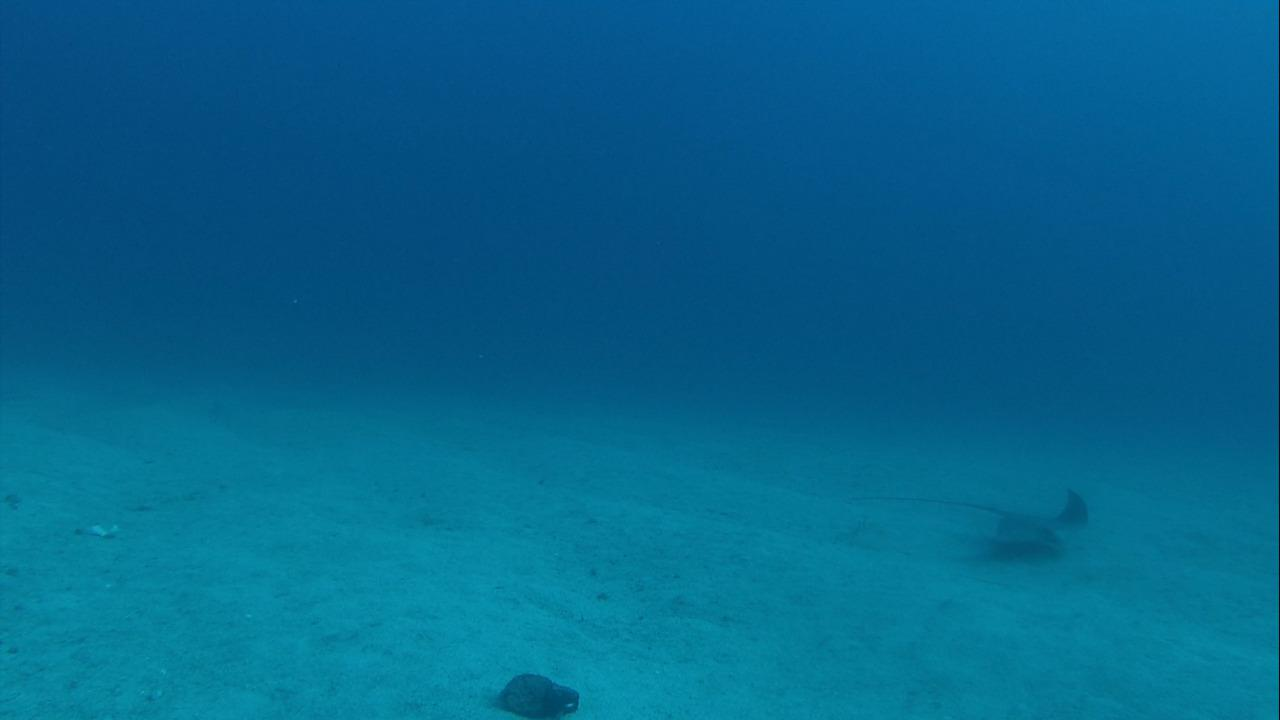myliobatis: (858, 475, 1092, 556)
